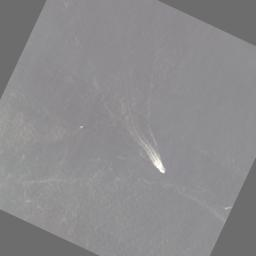boat: (160, 166, 166, 174), (80, 125, 84, 129)
